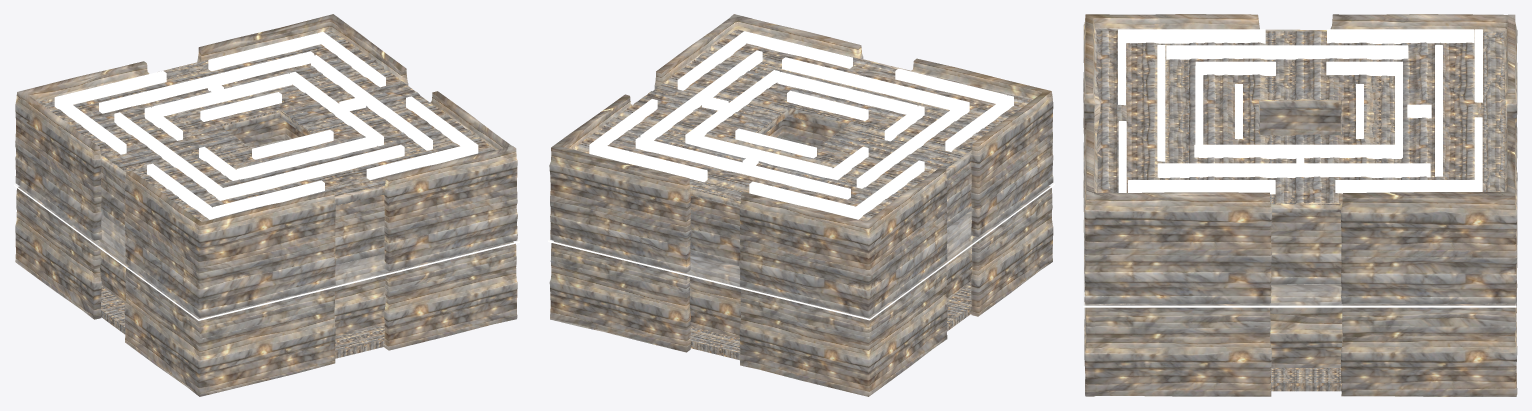
The model's file is MINOTAURmaze 3d texture.glb.
The picture shows the model from 3 angles, left to right: view 1: azimuth 30°, elevation 25°; view 2: azimuth 150°, elevation 25°; view 3: azimuth 270°, elevation 25°; orthographic projection. The views are drawn at different scales.
Parts seen in each view (by area): view 1: Cube.003, Cube.007, Cube.004, Cube.005, Cube.008; view 2: Cube.003, Cube.007, Cube.004, Cube.005, Cube.008; view 3: Cube.003, Cube.007, Cube.005, Cube.004, Cube.008.
Boxes of the visible parts, <box> form: Cube.003: <box>15,14,517,396</box>; Cube.007: <box>54,32,478,219</box>; Cube.004: <box>14,183,519,320</box>; Cube.005: <box>38,30,475,208</box>; Cube.008: <box>101,286,384,358</box>; Cube.003: <box>549,14,1053,396</box>; Cube.007: <box>589,31,1013,219</box>; Cube.004: <box>548,183,1054,320</box>; Cube.005: <box>573,50,1002,221</box>; Cube.008: <box>690,282,971,360</box>; Cube.003: <box>1083,14,1517,396</box>; Cube.007: <box>1118,29,1482,194</box>; Cube.005: <box>1160,32,1505,212</box>; Cube.004: <box>1083,134,1516,307</box>; Cube.008: <box>1096,303,1505,391</box>.
Size of what is drawn, in the model's own units: 31.71 by 16.25 by 31.65.
4 materials, 1 textured.
